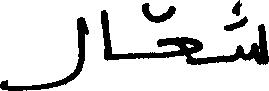X: (0, 12, 85, 90), (158, 1, 201, 69), (238, 0, 268, 69), (101, 5, 111, 65)
